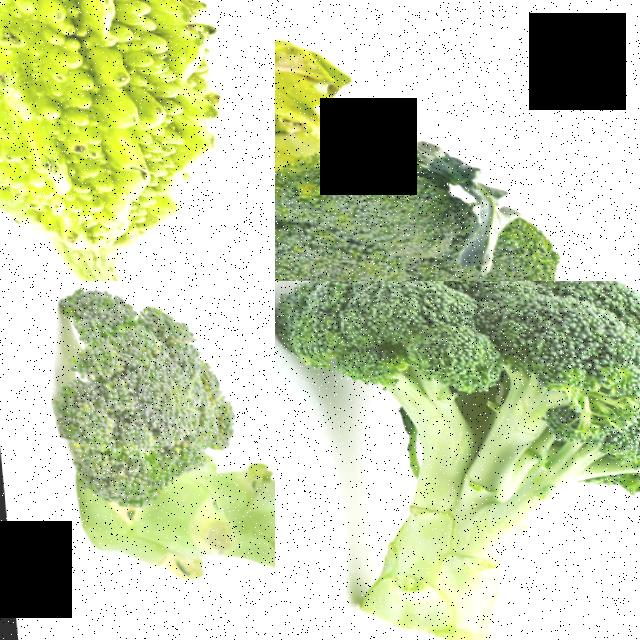bitter gourd: (0, 0, 233, 281)
broccoli: (275, 281, 640, 640), (275, 0, 621, 281), (53, 281, 236, 519)
